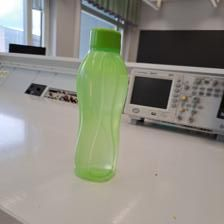bottle: (70, 27, 131, 182)
